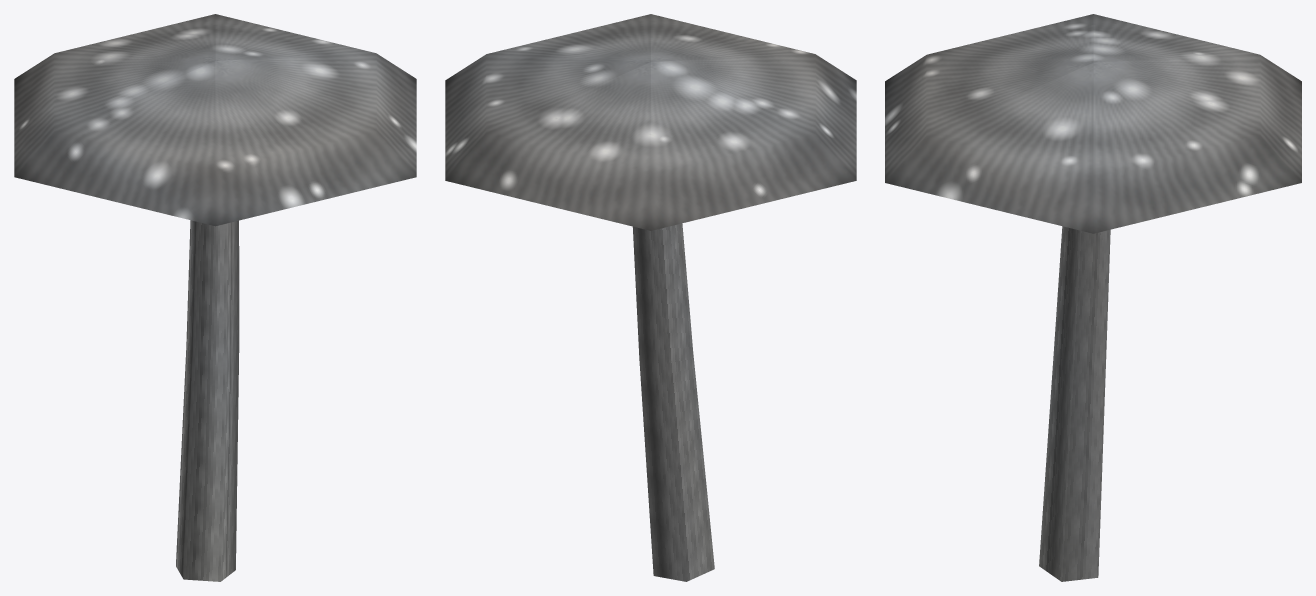
The model's file is giant_cap_l2.gltf.
The picture shows the model from 3 angles, left to right: view 1: azimuth 30°, elevation 25°; view 2: azimuth 150°, elevation 25°; view 3: azimuth 270°, elevation 25°; orthographic projection. The views are drawn at different scales.
Parts seen in each view (by area): view 1: giant_cap_l2; view 2: giant_cap_l2; view 3: giant_cap_l2.
Boxes of the visible parts, x1,y1,x2,y2 form: giant_cap_l2: (14, 14, 416, 581); giant_cap_l2: (445, 14, 856, 581); giant_cap_l2: (885, 14, 1301, 581).
Bounding box in the file's own units: 6.4 × 7.6 × 5.54.
Materials: 2 (2 with a texture image).
